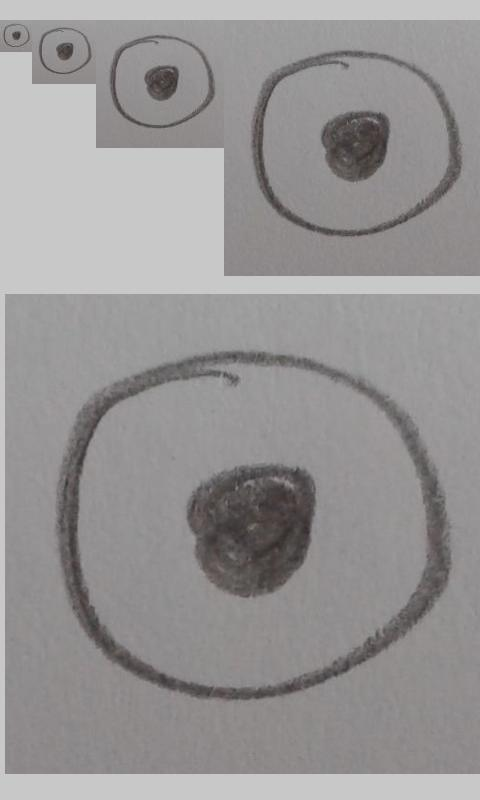radio_button: (53, 347, 455, 705), (249, 49, 461, 238), (109, 34, 215, 129), (38, 27, 92, 75), (2, 22, 31, 48)
